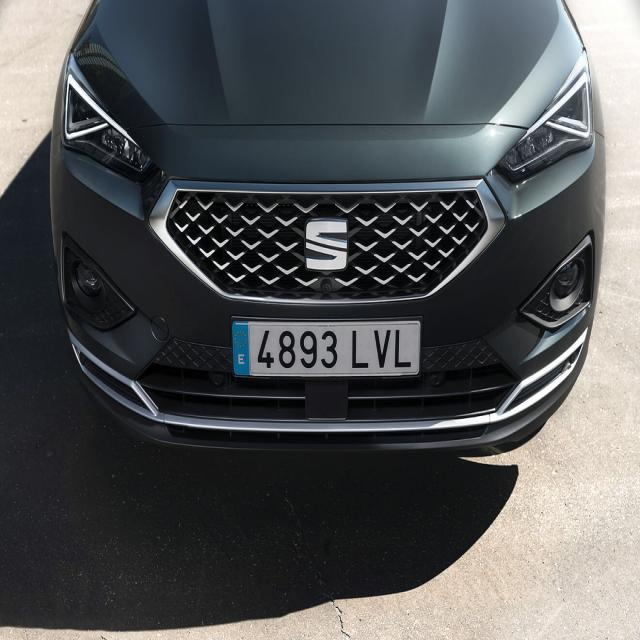football: (233, 316, 423, 376)
